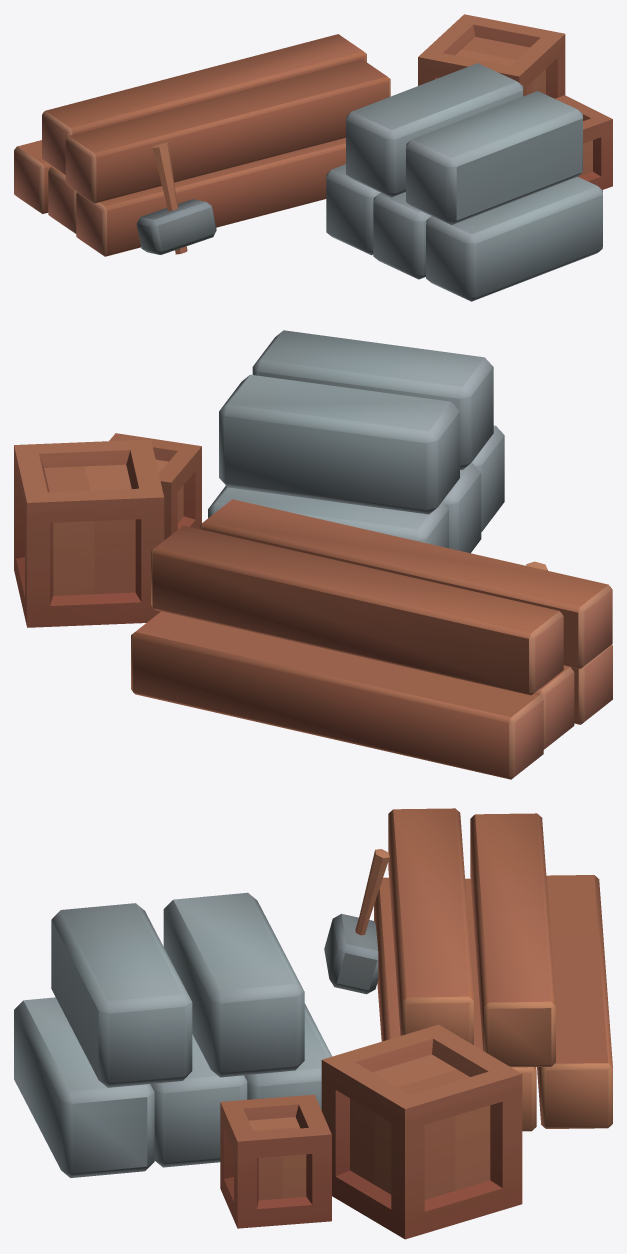
The model's file is building_stage_A.glb.
The picture shows the model from 3 angles, top to bottom: view 1: azimuth 30°, elevation 25°; view 2: azimuth 150°, elevation 25°; view 3: azimuth 270°, elevation 25°; orthographic projection. The views are drawn at different scales.
Parts seen in each view (by area): view 1: building_stage_A; view 2: building_stage_A; view 3: building_stage_A.
Part boxes in pixels (box(x1,y1,x2,y2)): building_stage_A: box(14, 14, 612, 301); building_stage_A: box(14, 330, 612, 779); building_stage_A: box(14, 808, 612, 1239).
Bounding box in the file's own units: 1.05 × 0.2859 × 0.875.
1 material, 1 textured.
